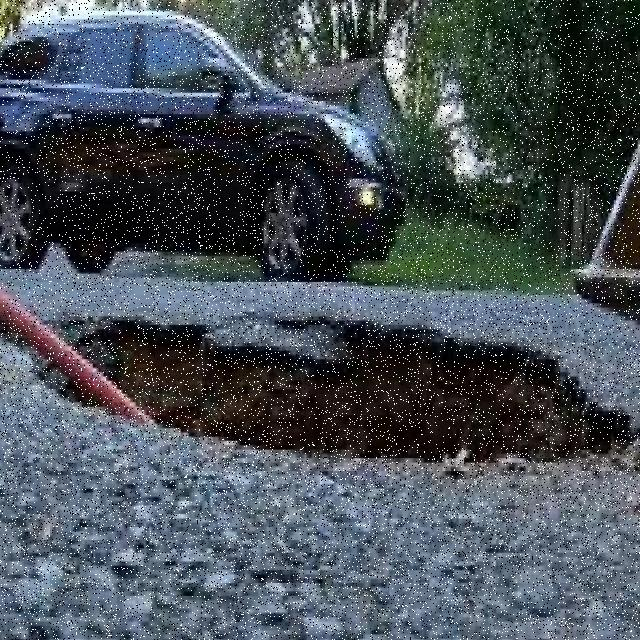pothole: (55, 295, 640, 467)
